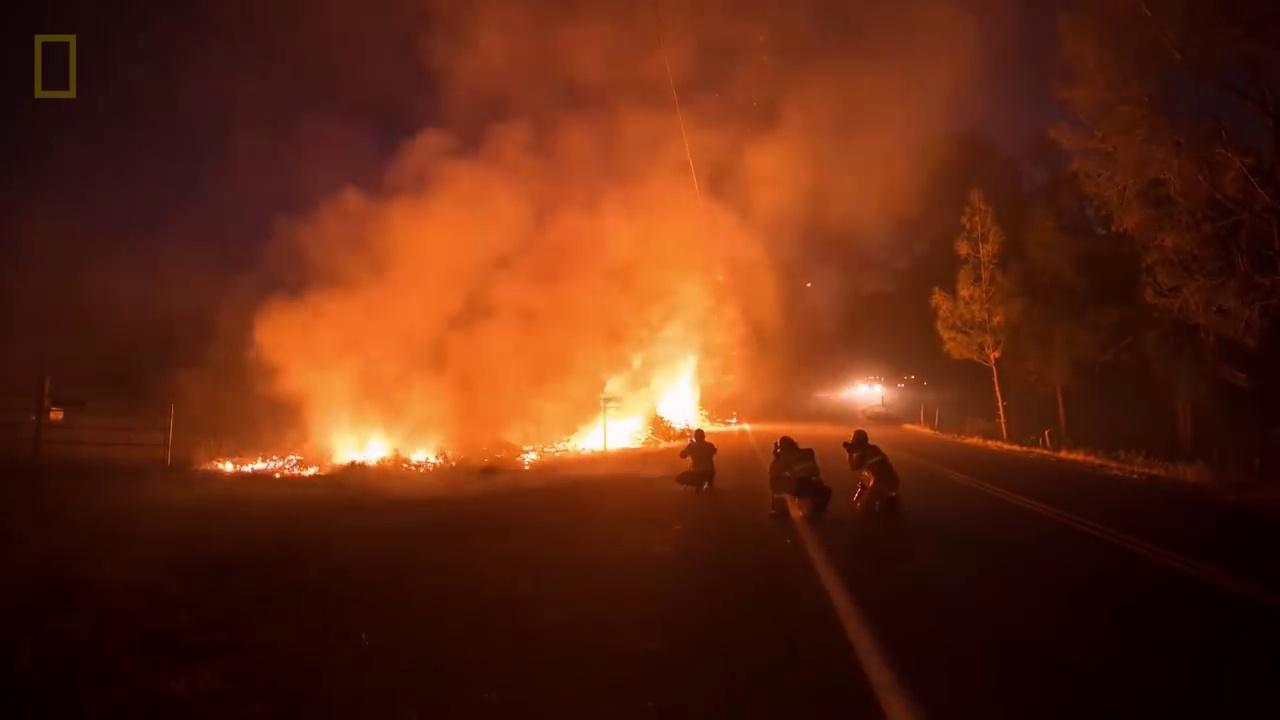Fire: (515, 296, 713, 469), (330, 422, 454, 480), (215, 452, 325, 478)
